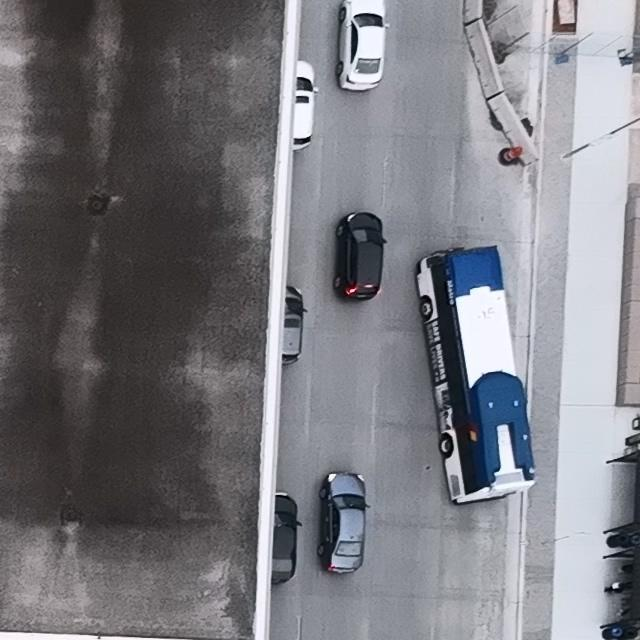car: (416, 244, 540, 505), (316, 472, 371, 575), (336, 0, 390, 92), (334, 211, 388, 302), (273, 493, 302, 585), (292, 59, 319, 151), (283, 286, 309, 366)
